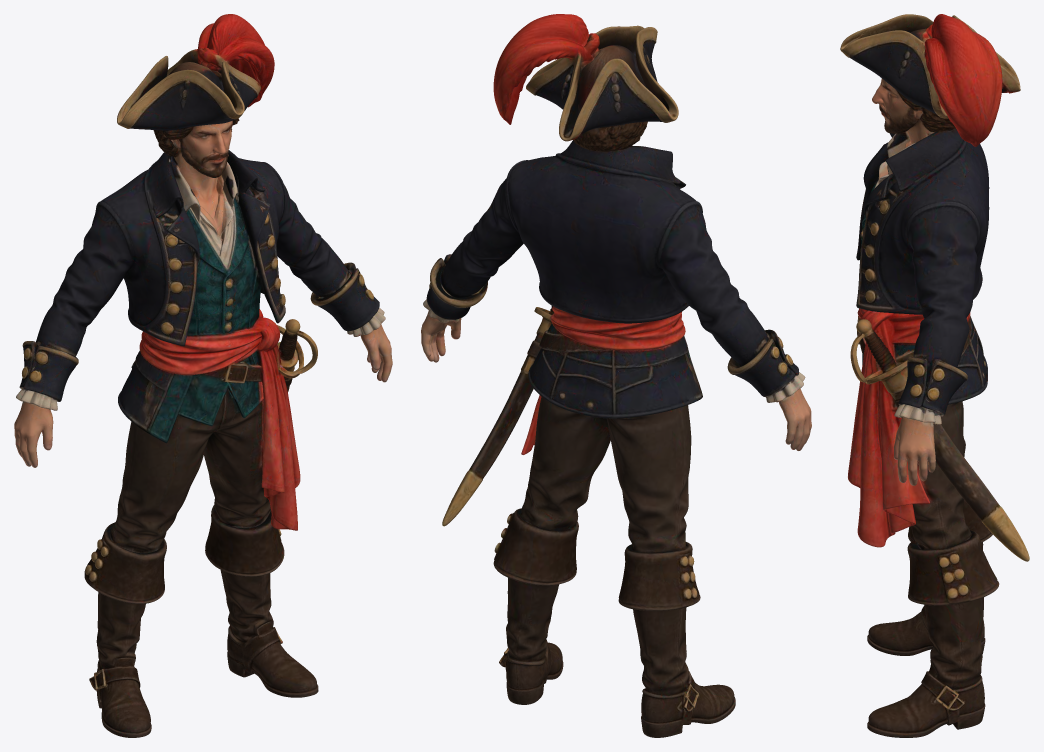
File: pirate_captain_npc.glb
3 views of the same model, side by side, from view 1: azimuth 30°, elevation 25°; view 2: azimuth 150°, elevation 25°; view 3: azimuth 270°, elevation 25° (orthographic). The views are drawn at different scales.
Visible parts, largest first — view 1: pirate; view 2: pirate; view 3: pirate.
Boxes of the visible parts, <box> form: pirate: <box>14,14,392,737</box>; pirate: <box>421,14,811,737</box>; pirate: <box>840,14,1029,737</box>.
Bounding box in the file's own units: 1.05 × 1.8 × 0.4479.
Materials: 1 (1 with a texture image).
